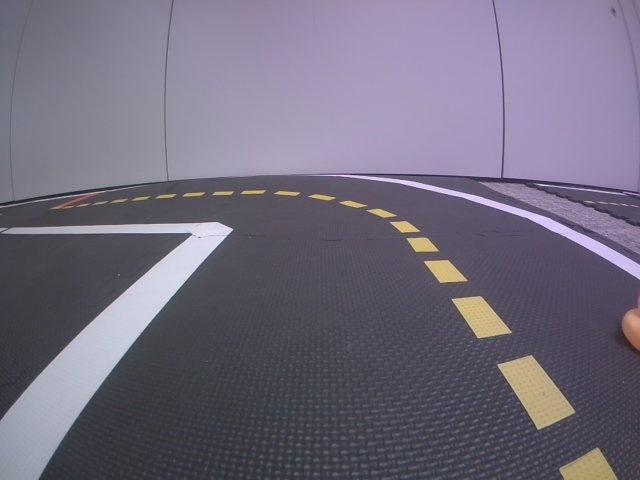duckie: (622, 292, 640, 354)
